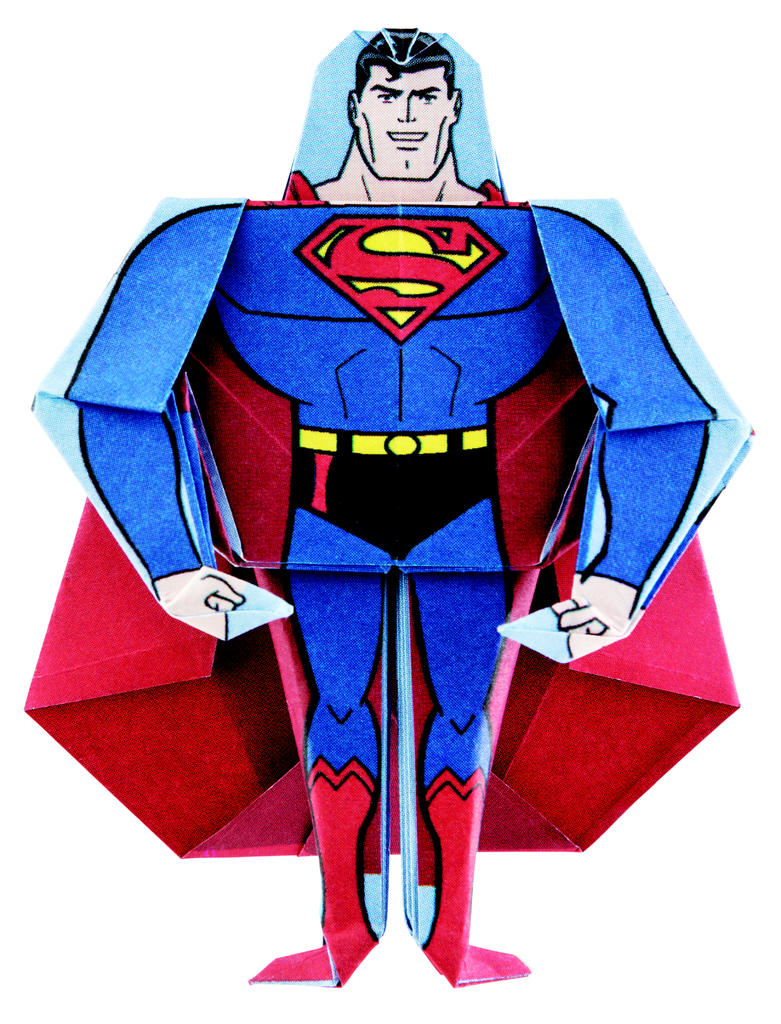Person: (22, 27, 755, 988)
